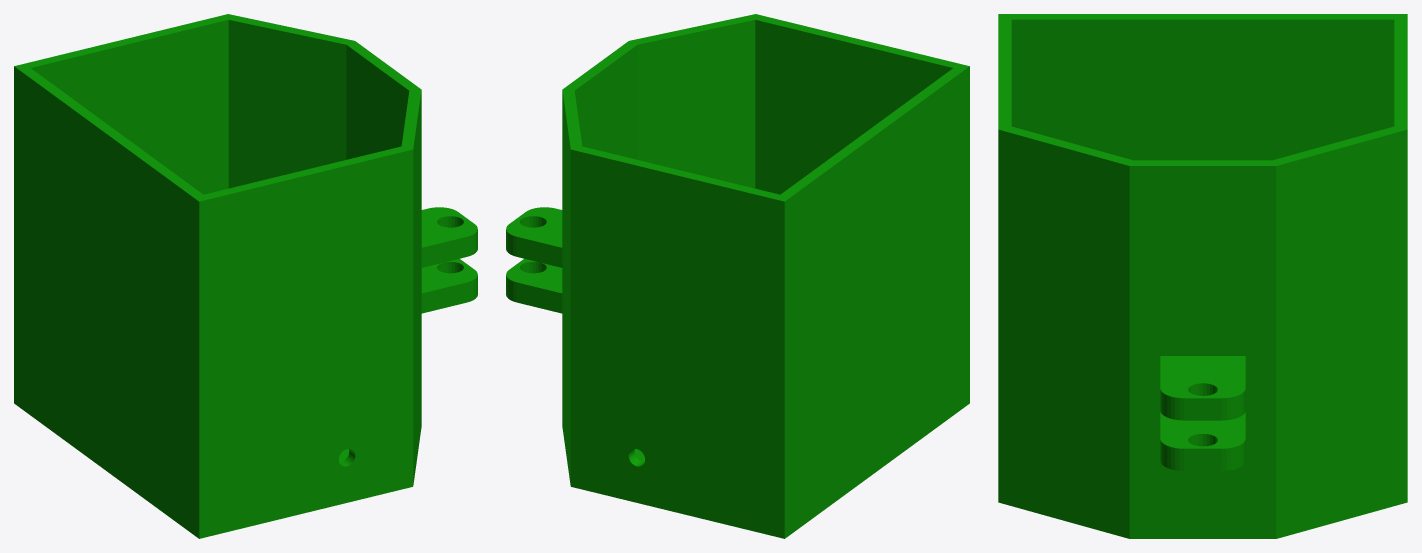
Rendered from back.dae.
3 views of the same model, side by side, from view 1: azimuth 30°, elevation 25°; view 2: azimuth 150°, elevation 25°; view 3: azimuth 270°, elevation 25° (orthographic). The views are drawn at different scales.
Parts seen in each view (by area): view 1: back; view 2: back; view 3: back.
Boxes of the visible parts, x1,y1,x2,y2 form: back: (14,14,477,538); back: (506,14,969,538); back: (998,14,1407,538).
Bounding box in the file's own units: 688 × 613 × 616.
